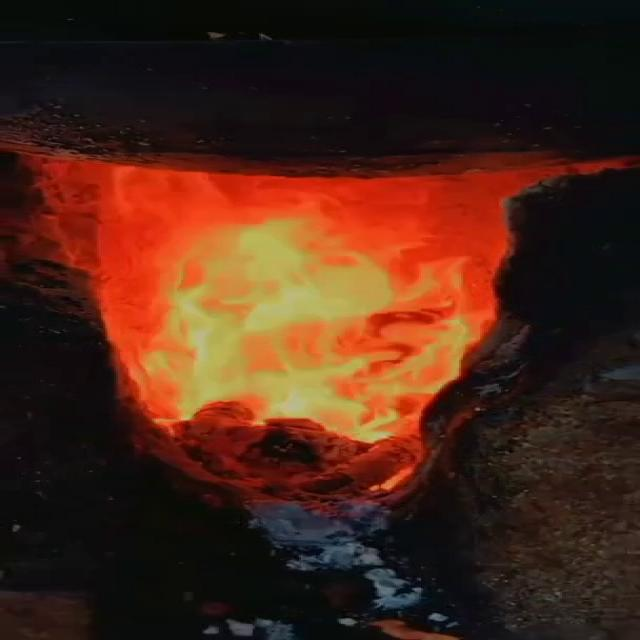Fire: (0, 153, 604, 526)
